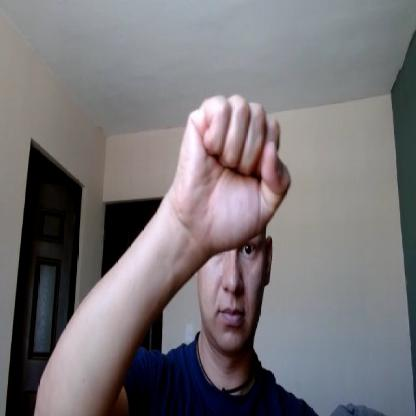S: (173, 93, 293, 248)
